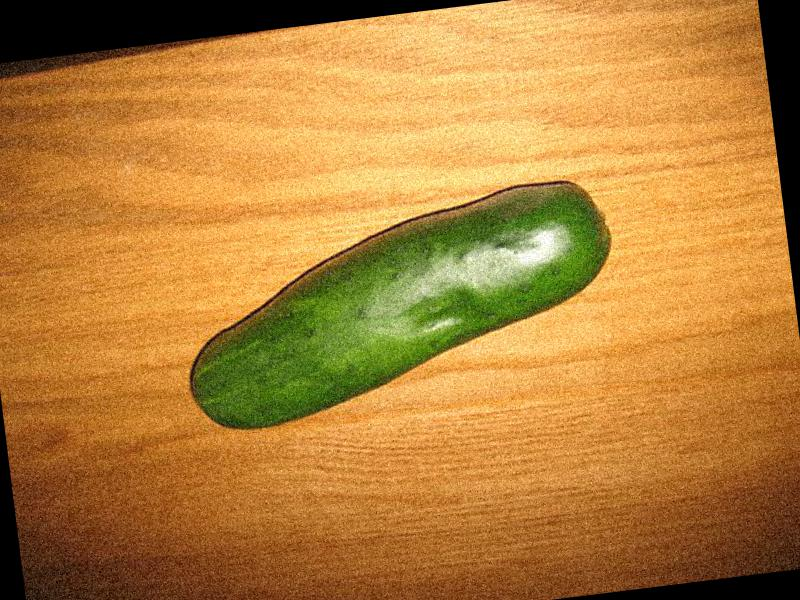Cucumber: (169, 176, 622, 433)
